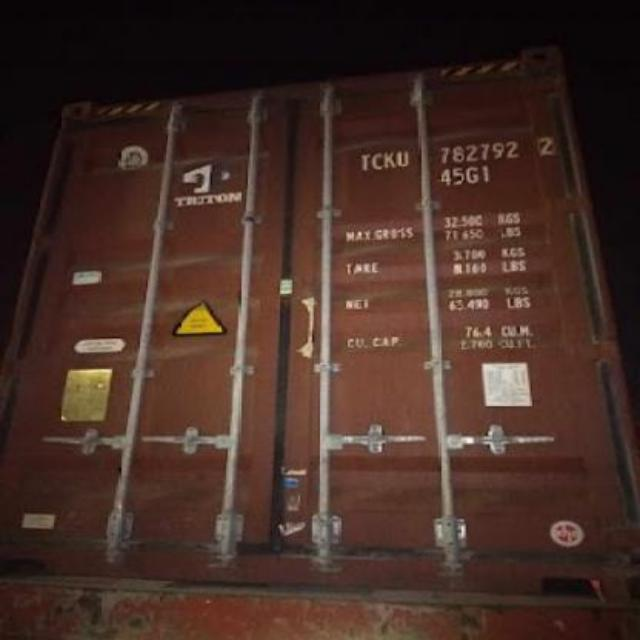2: (466, 144, 479, 164), (506, 139, 518, 157), (540, 138, 552, 156)
7: (478, 143, 492, 161), (438, 147, 450, 165)
8: (452, 146, 466, 164)
9: (492, 142, 506, 160)
C: (372, 154, 384, 170)
K: (384, 152, 398, 168)
T: (358, 154, 372, 172)
U: (396, 151, 409, 169)
